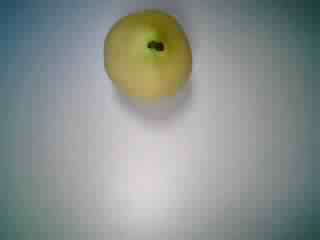pear: (98, 6, 200, 115)
